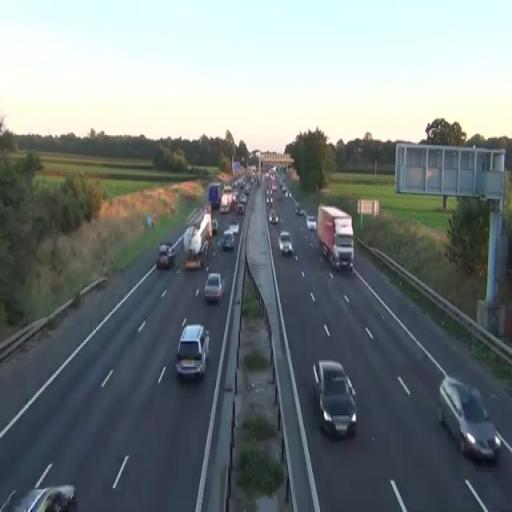Car: (437, 375, 501, 464), (312, 360, 358, 439), (176, 319, 210, 382), (204, 272, 225, 303), (156, 242, 175, 269), (279, 230, 293, 256), (222, 230, 234, 251)
Truck: (316, 204, 354, 272), (219, 190, 233, 214)
